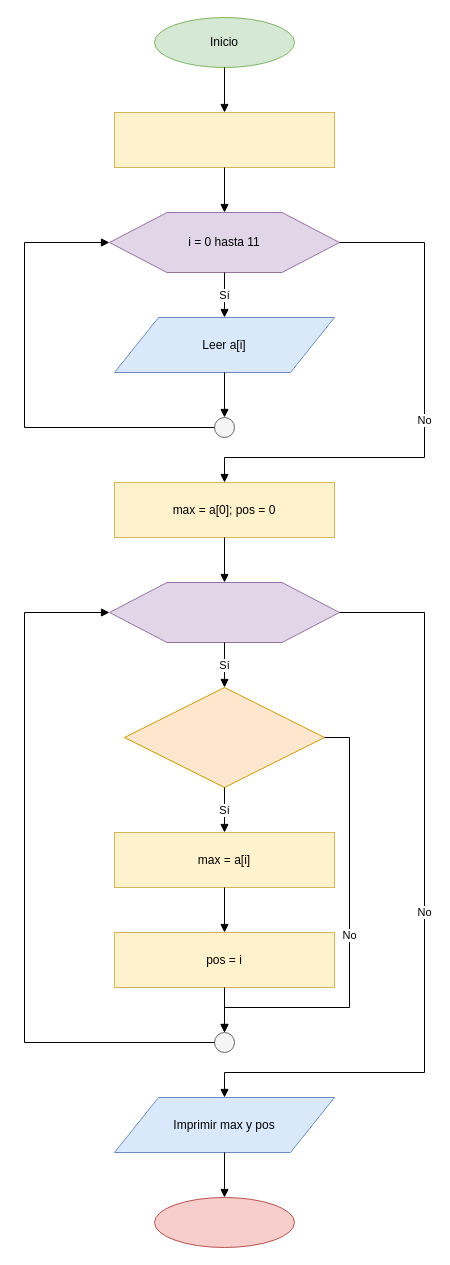
The diagram is 450 pixels wide and 1265 high, and some of its shapes have lost their labels. The box of each missing label's shape, as (x1, y1, x2, y2) in pixels:
a[i] > max: (124, 686, 324, 788)
Declarar arreglo a[12]: (114, 112, 334, 168)
Fin: (154, 1196, 294, 1248)
i = 1 hasta 11: (108, 582, 340, 642)
